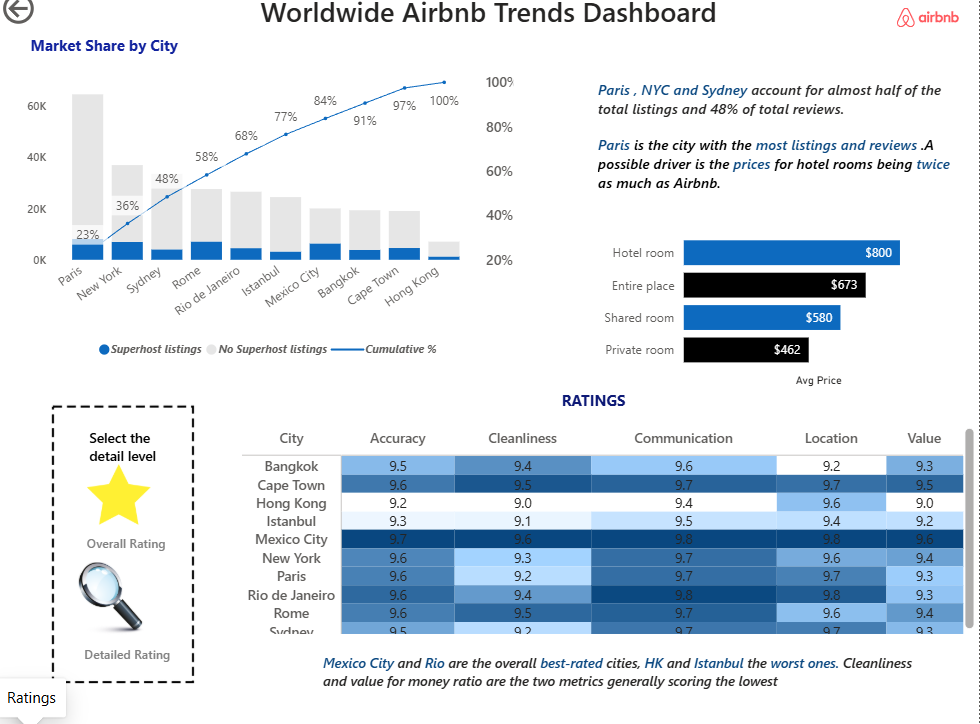

Layout of this report page (visuals, bound fields, positions):
{"tool":"powerbi","page":{"name":"Ratings ","canvas":[960,720],"ordinal":1},"visuals":[{"type":"textbox","box":[244.6,0,470.8,75.8],"z":0},{"type":"image","box":[879.2,0,61.1,57.5],"z":1000},{"type":"textbox","box":[23.2,40.4,161.4,35.5],"z":2000},{"type":"lineStackedColumnComboChart","fields":{"Category":["Listings.city"],"Y":["Listings.Superhost listings","Listings.No Superhost listings"],"Y2":["Listings.Cumulative %"]},"box":[23.2,75.8,485.5,295.9],"z":3000},{"type":"barChart","fields":{"Category":["Listings.room_type"],"Y":["Listings.Avg Price"]},"box":[582.1,221.3,358.3,173.6],"z":4000},{"type":"textbox","box":[582.1,84.4,358.3,127.2],"z":5000},{"type":"image","box":[0,398.6,244.6,291],"z":6000},{"type":"actionButton","box":[0,0,100,40],"z":8000},{"type":"image","box":[51.4,462.2,133.3,66],"z":8000,"group":"g1"},{"type":"textbox","box":[84.4,425.5,75.8,47.7],"z":9000},{"type":"image","box":[73.4,558.8,71.9,77.7],"z":9000,"group":"g2"},{"type":"pivotTable","fields":{"Rows":["Listings.city"],"Values":["Listings.Accuracy","Listings.Cleanliness","Listings.Communication","Listings.Location","Listings.Value"]},"box":[233.6,425.5,726.4,211.6],"z":9500},{"type":"group","id":"g1","title":"Group 1","box":[51.4,462.2,163.9,96.6],"z":11000},{"type":"textbox","box":[82,528.2,133.3,30.6],"z":12000,"group":"g1"},{"type":"group","id":"g2","title":"Group 2","box":[73.4,558.8,111.3,122.3],"z":12000},{"type":"textbox","box":[519.7,387.6,126,41.6],"z":13000},{"type":"textbox","box":[80.1,636.5,104.6,44.6],"z":13000,"group":"g2"},{"type":"textbox","box":[313,645.7,610.2,74.6],"z":14000}]}

Visuals, with their boxes in screenshot pixels (x1, y1, x2, y2), scaled from the page's 960x720 canvas onto the 980x724 screenshot:
textbox: bbox=[250, 0, 730, 76]
image: bbox=[898, 0, 960, 58]
textbox: bbox=[24, 41, 188, 76]
lineStackedColumnComboChart - Listings.city x Listings.Superhost listings: bbox=[24, 76, 519, 374]
barChart - Listings.room_type x Listings.Avg Price: bbox=[594, 223, 960, 397]
textbox: bbox=[594, 85, 960, 213]
image: bbox=[0, 401, 250, 693]
actionButton: bbox=[0, 0, 102, 40]
image: bbox=[52, 465, 189, 531]
textbox: bbox=[86, 428, 164, 476]
image: bbox=[75, 562, 148, 640]
pivotTable - Listings.city x Listings.Accuracy: bbox=[238, 428, 979, 641]
"Group 1" group: bbox=[52, 465, 220, 562]
textbox: bbox=[84, 531, 220, 562]
"Group 2" group: bbox=[75, 562, 189, 685]
textbox: bbox=[531, 390, 659, 432]
textbox: bbox=[82, 640, 189, 685]
textbox: bbox=[320, 649, 942, 723]
